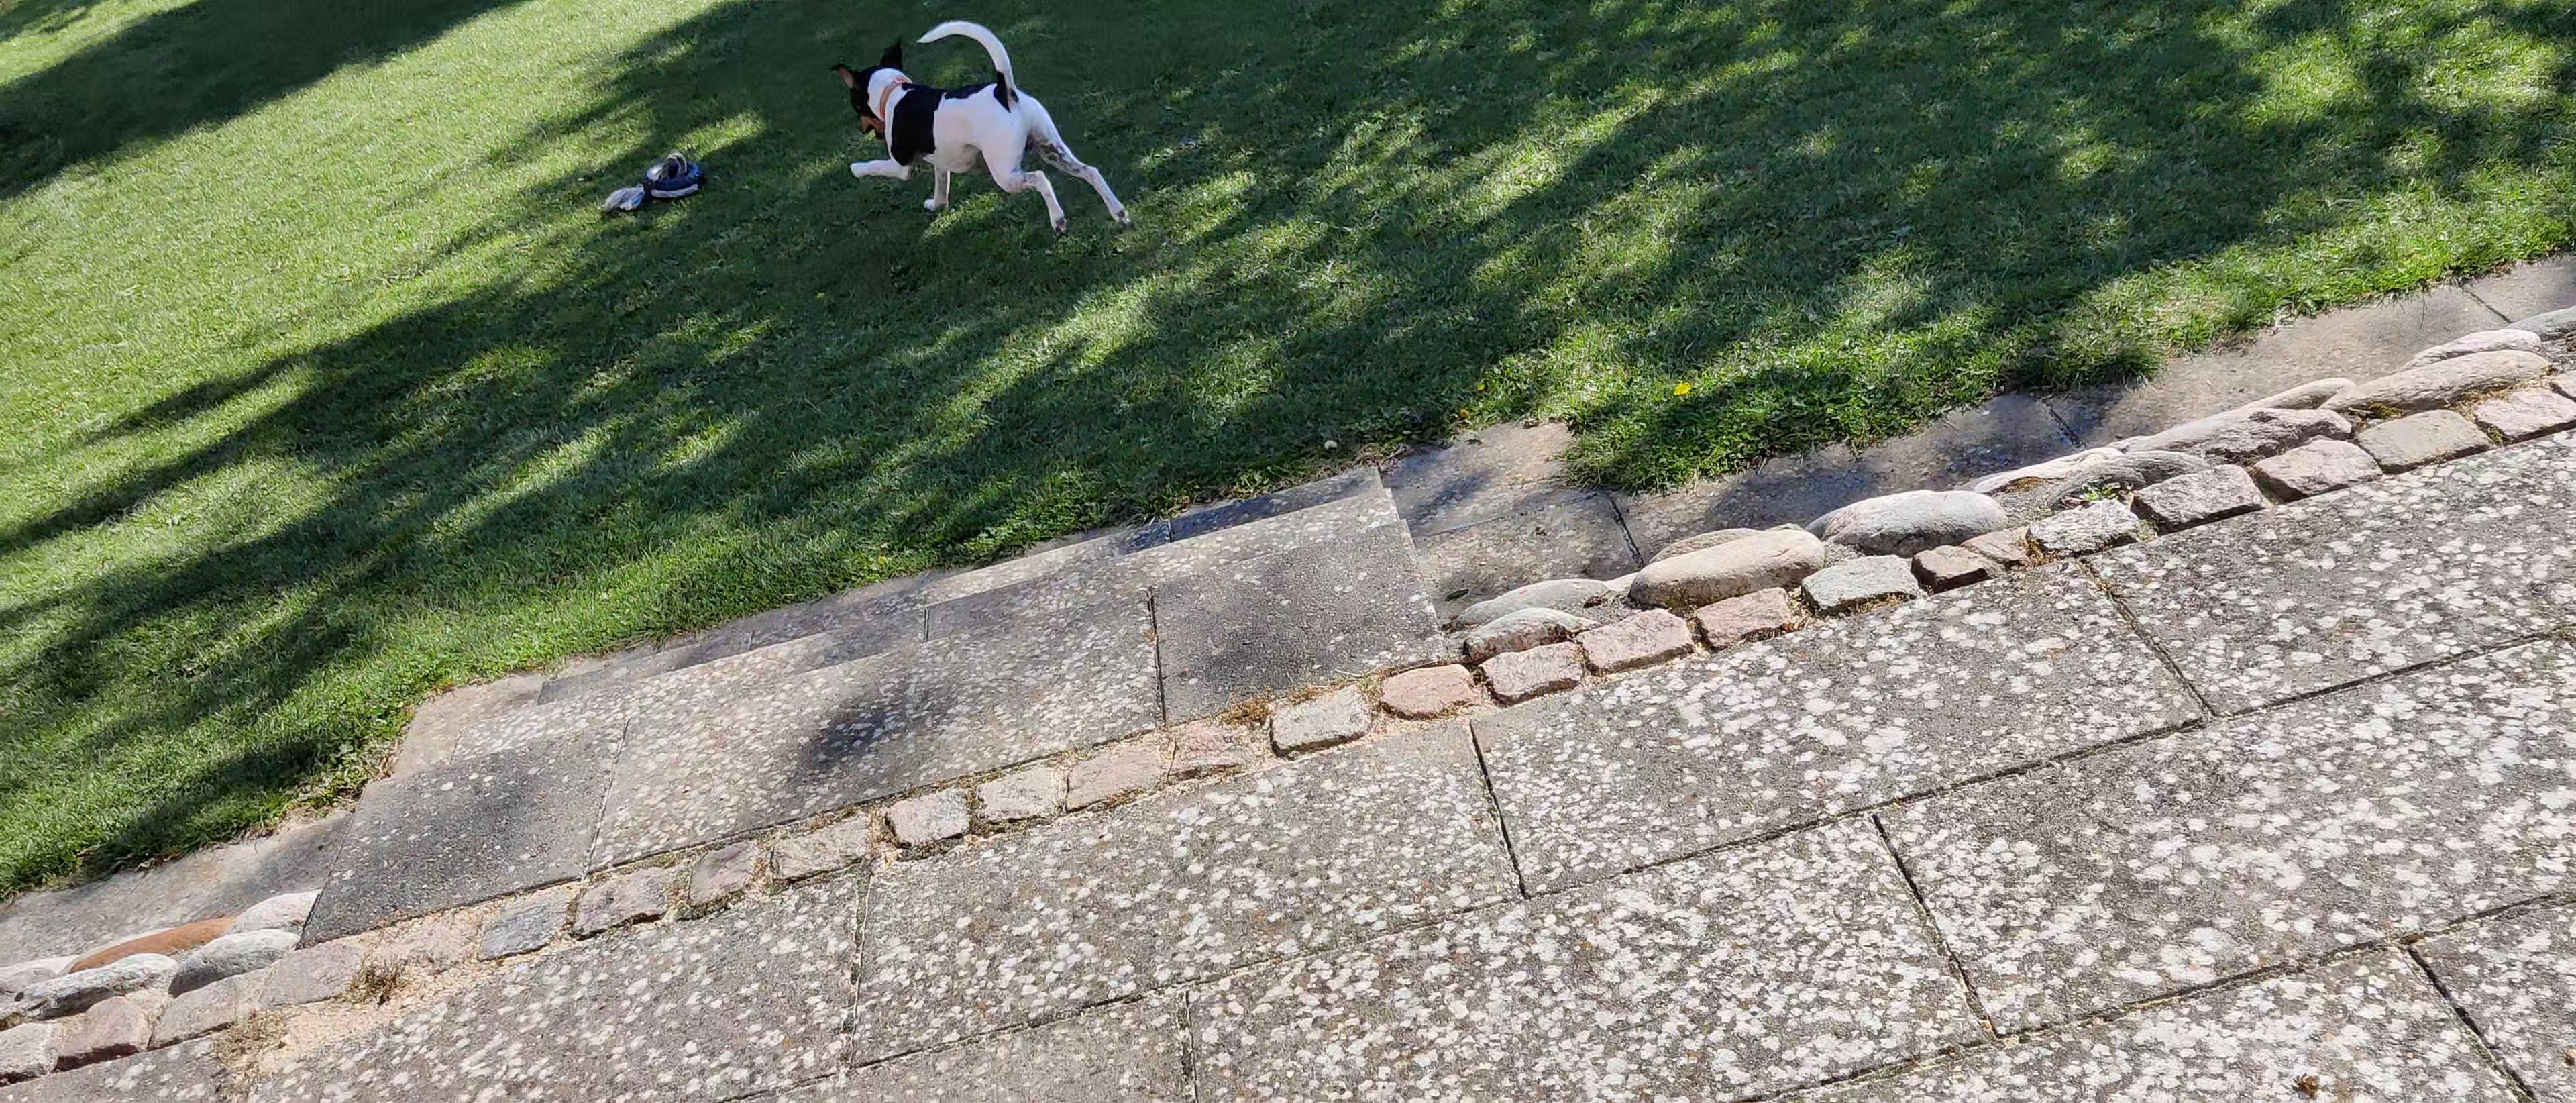Dog: (830, 10, 1137, 237)
